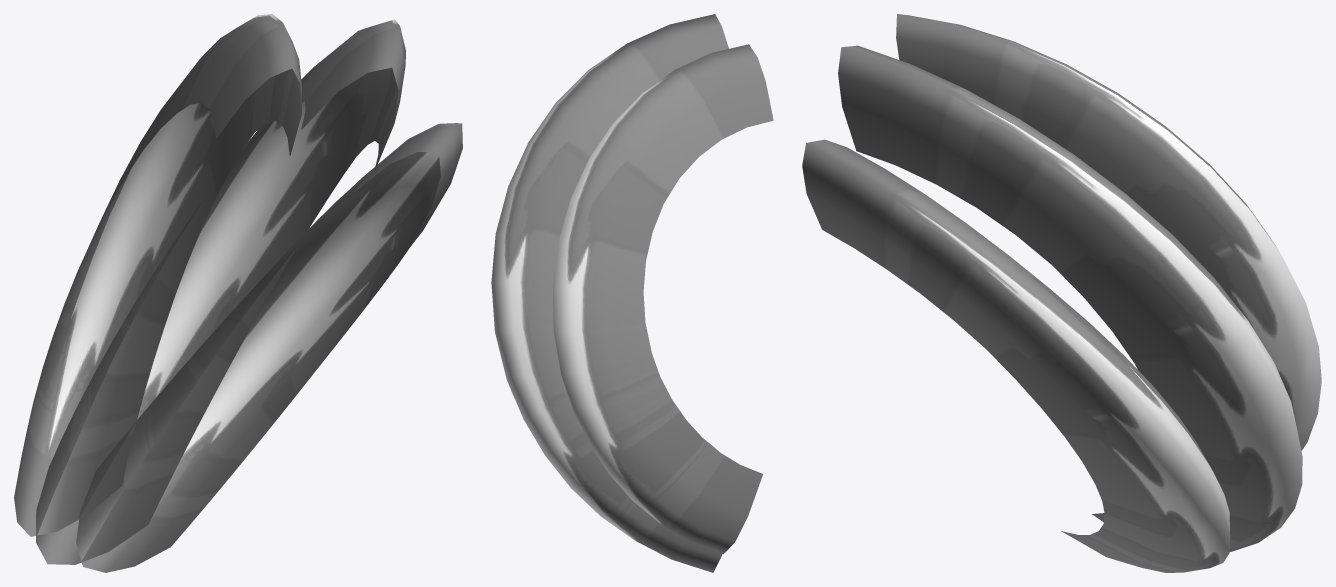
File: fx_m10503_skill01.fbx
3 views of the same model, side by side, from view 1: azimuth 30°, elevation 25°; view 2: azimuth 150°, elevation 25°; view 3: azimuth 270°, elevation 25° (orthographic). The views are drawn at different scales.
Parts seen in each view (by area): view 1: trail_add, trail_alpha; view 2: trail_add, trail_alpha; view 3: trail_alpha, trail_add.
Boxes of the visible parts, x1,y1,x2,y2 form: trail_add: (14,14,461,572); trail_alpha: (14,14,462,572); trail_add: (491,14,773,572); trail_alpha: (508,14,773,473); trail_alpha: (802,14,1297,572); trail_add: (825,14,1321,572).
Size of the model in its own units: 603 by 905 by 719.
2 materials, 2 textured.
